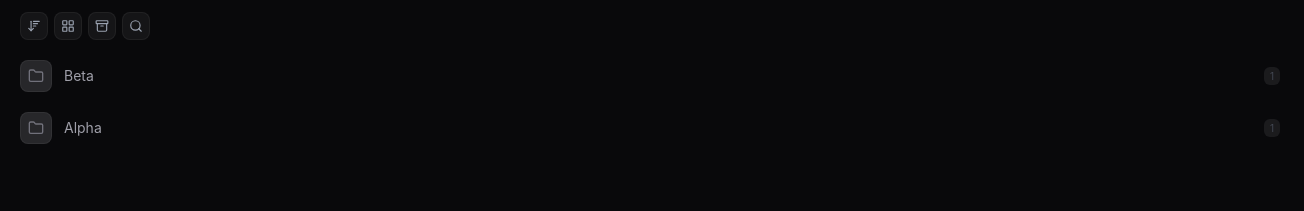
it: CollectionList interactions › searches collections and clears the query when search closes
Click the button named "Search Collections" at [136, 26], box [122,12,150,40]
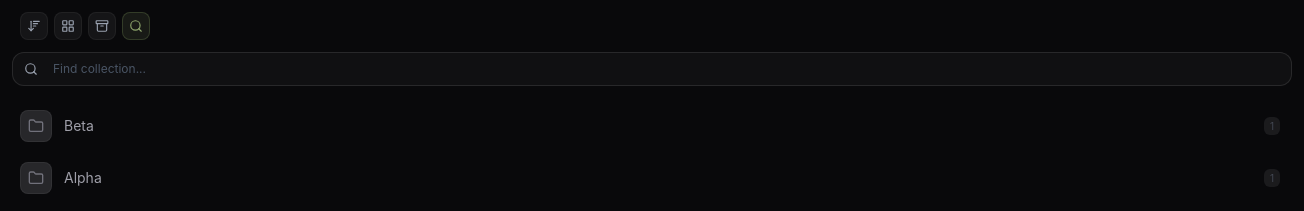
Type "alp" into the field with placeholder "Find collection..." at [652, 69], box [12,52,1292,86]
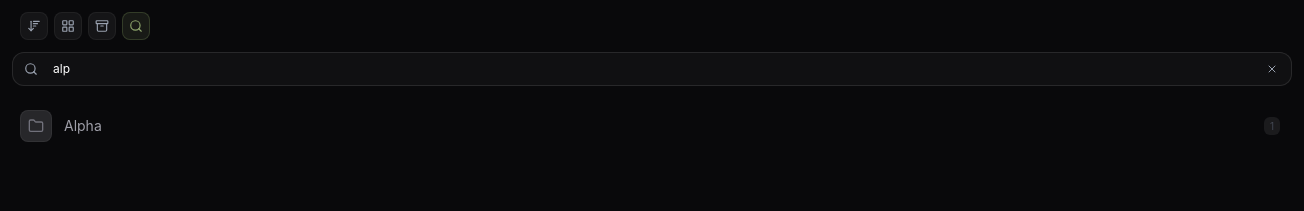
Now the text "Beta" is gone
Click the button named "Search Collections" at [136, 26], box [122,12,150,40]
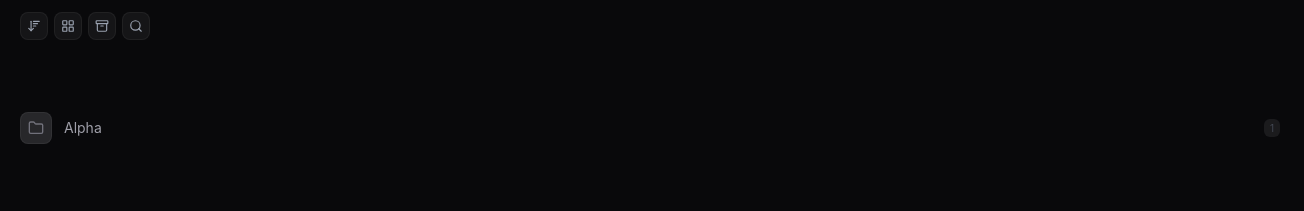
Expected: the field with placeholder "Find collection..." is not shown
Click the button named "Search Collections" at [136, 26], box [122,12,150,40]
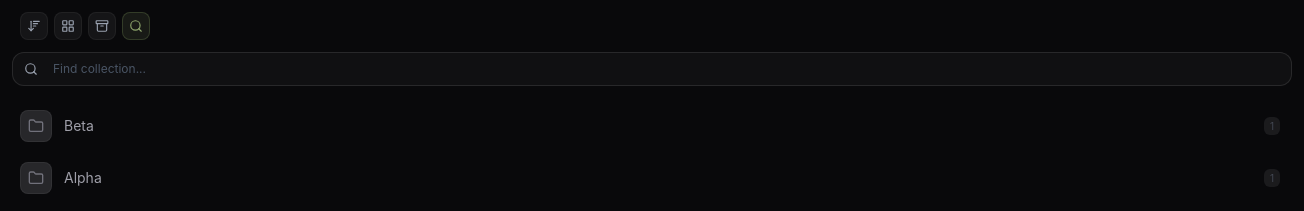
Now the field with placeholder "Find collection..." is empty, box [12,52,1292,86]
Now the text "Beta" is shown, box [64,116,94,136]
